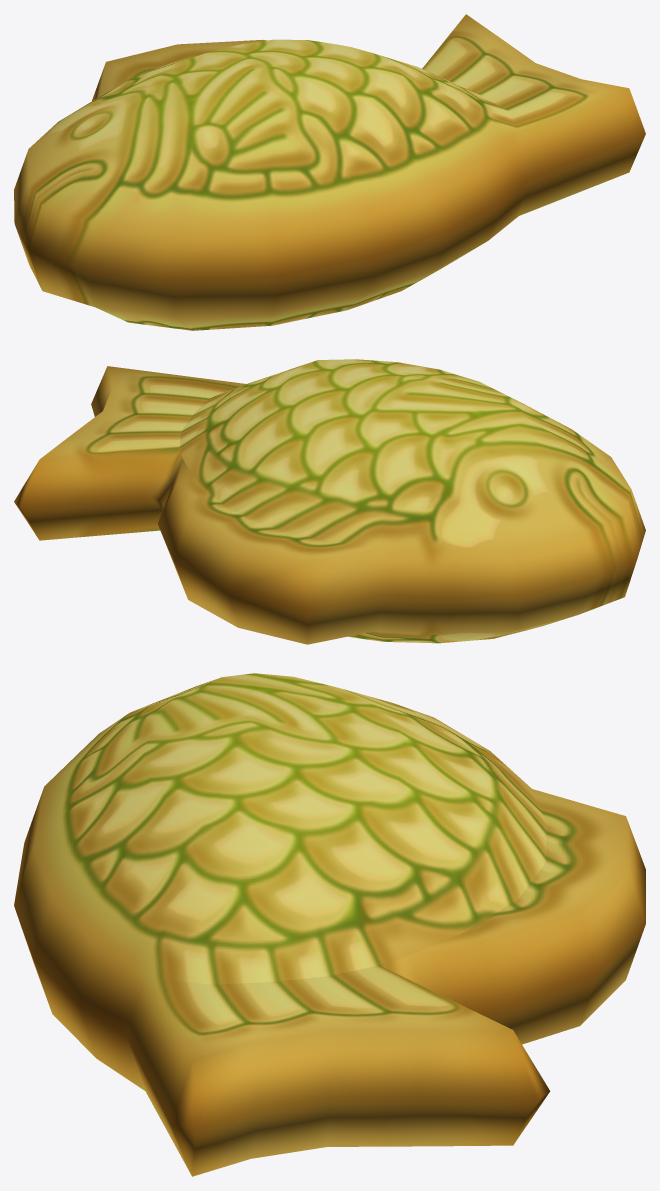
The model's file is 009-Taiyaki1.FBX.
3 renders of one model, top to bottom at view 1: azimuth 30°, elevation 25°; view 2: azimuth 150°, elevation 25°; view 3: azimuth 270°, elevation 25°, orthographic. The views are drawn at different scales.
Visible parts, largest first — view 1: 009-Taiyaki1; view 2: 009-Taiyaki1; view 3: 009-Taiyaki1.
Part boxes in pixels (x1,y1,x2,y2): 009-Taiyaki1: (14, 14, 645, 330); 009-Taiyaki1: (14, 359, 645, 644); 009-Taiyaki1: (14, 673, 645, 1176).
Size of the model in its own units: 23.37 by 8.35 by 15.79.
